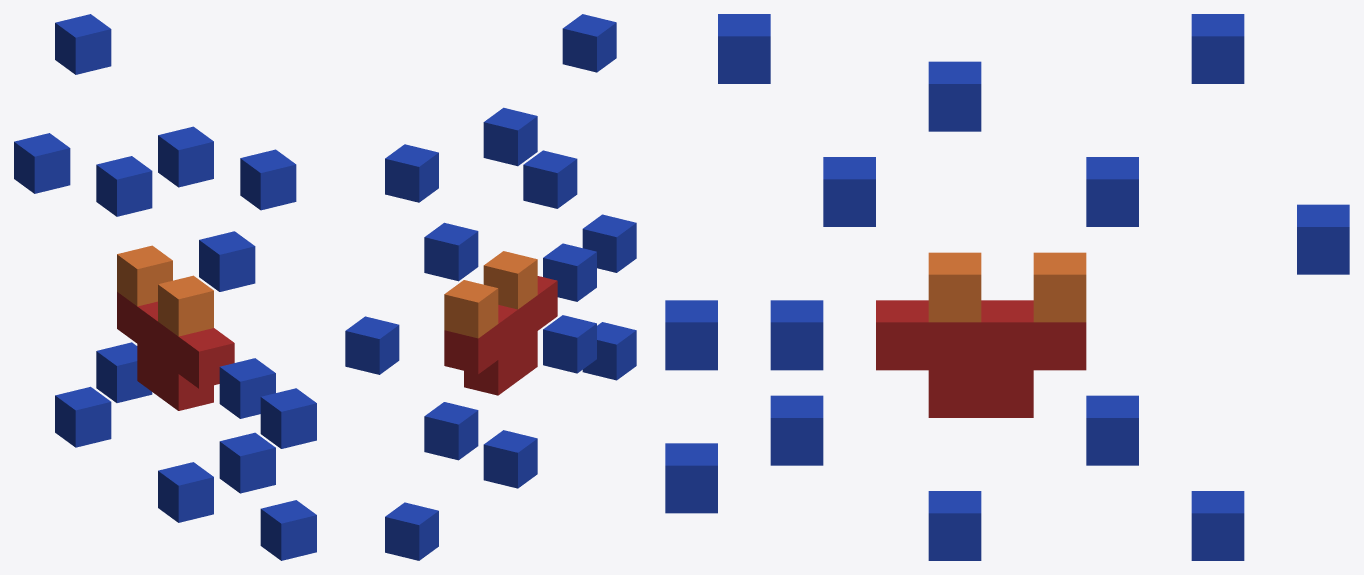
Rendered from Die6.obj.
3 views of the same model, side by side, from view 1: azimuth 30°, elevation 25°; view 2: azimuth 150°, elevation 25°; view 3: azimuth 270°, elevation 25° (orthographic). The views are drawn at different scales.
Bounding box in the file's own units: 0.1 × 1.1 × 1.3.
Materials: 1 (1 with a texture image).
